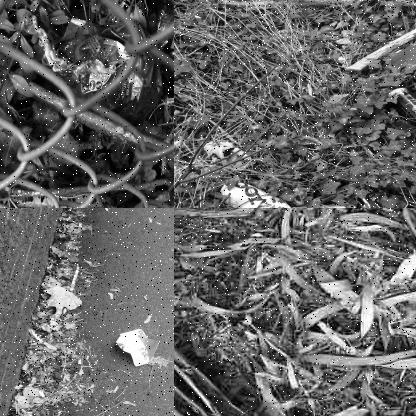glass: (138, 0, 173, 82)
metal: (205, 179, 296, 207), (388, 87, 415, 136), (396, 47, 415, 88), (289, 199, 367, 207)
plastic: (36, 8, 164, 118), (112, 324, 161, 375)
